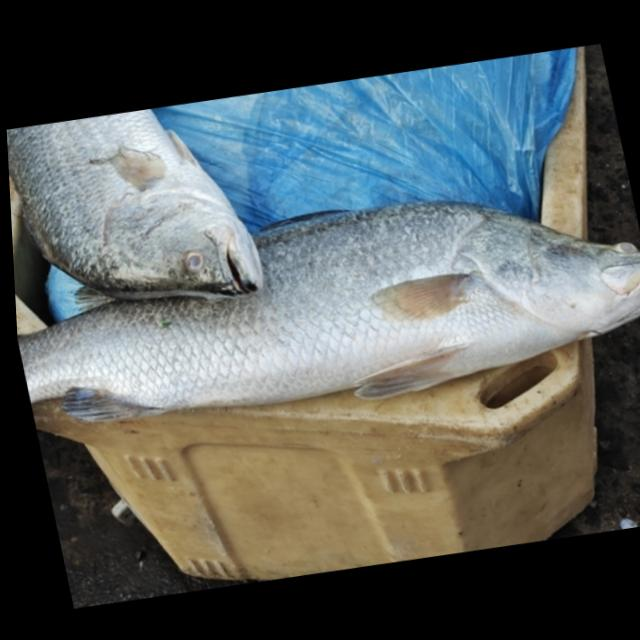Seabass: (8, 153, 640, 454), (5, 92, 267, 327)
